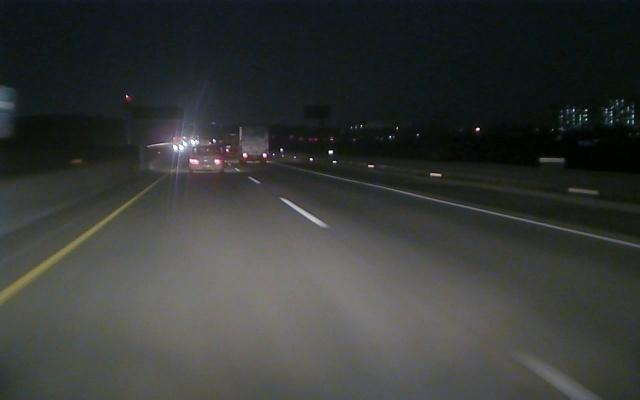lane: (321, 173, 639, 249), (1, 198, 135, 304), (248, 176, 331, 232)
